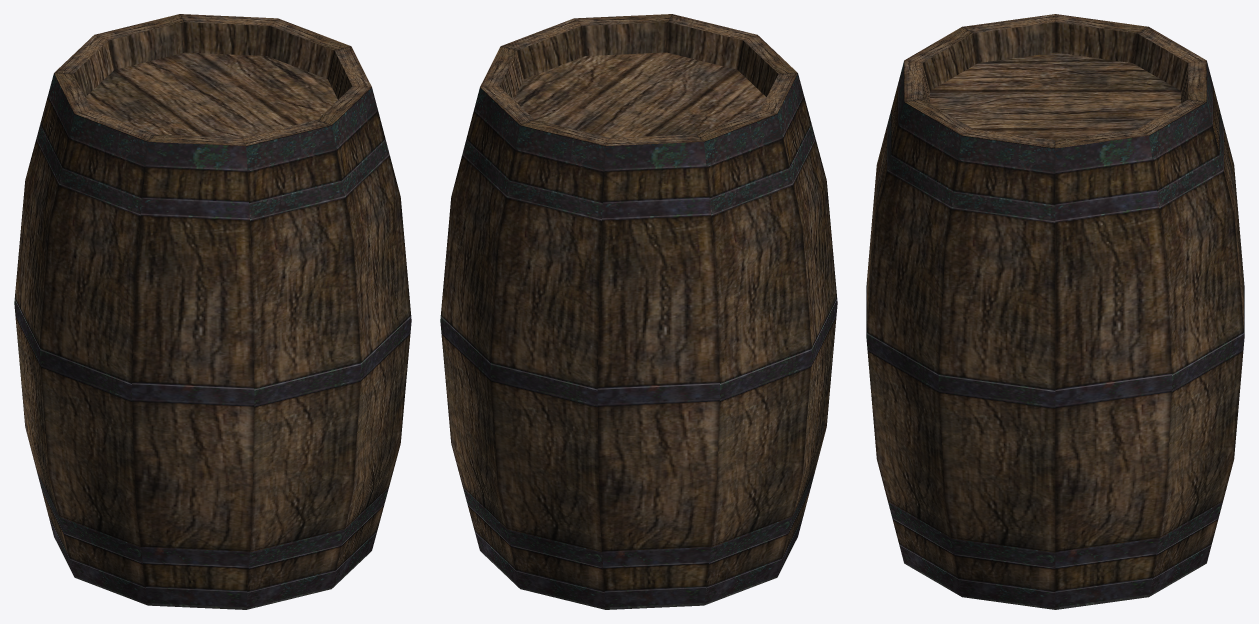
File: woodenBarrel.FBX
3 renders of one model, left to right at view 1: azimuth 30°, elevation 25°; view 2: azimuth 150°, elevation 25°; view 3: azimuth 270°, elevation 25°, orthographic.
Parts seen in each view (by area): view 1: woodenBarrel; view 2: woodenBarrel; view 3: woodenBarrel.
Boxes of the visible parts, x1=… form: woodenBarrel: x1=14, y1=14, x2=411, y2=609; woodenBarrel: x1=440, y1=14, x2=837, y2=609; woodenBarrel: x1=866, y1=14, x2=1244, y2=609.
Size of the model in its own units: 12.21 by 15.64 by 11.61.
Materials: 1 (1 with a texture image).
